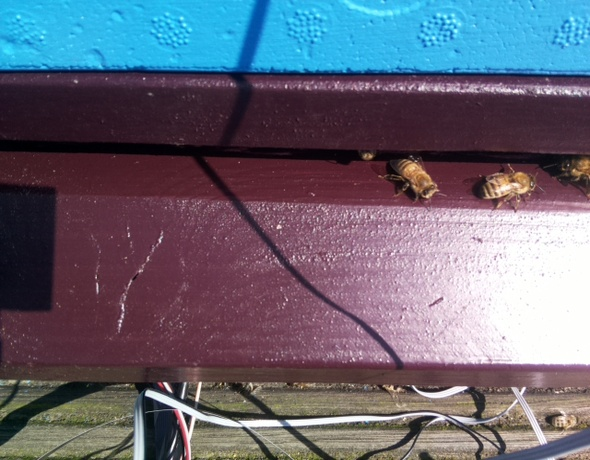no_pollen: (383, 150, 441, 204), (471, 167, 540, 205), (556, 153, 590, 187)
